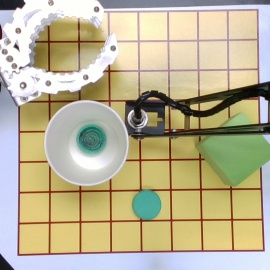cup_green: (43, 99, 129, 188)
green: (133, 190, 163, 220)
